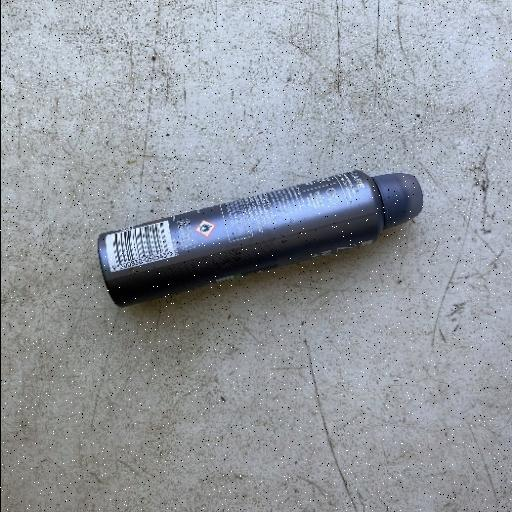Metal: (94, 167, 424, 309)
